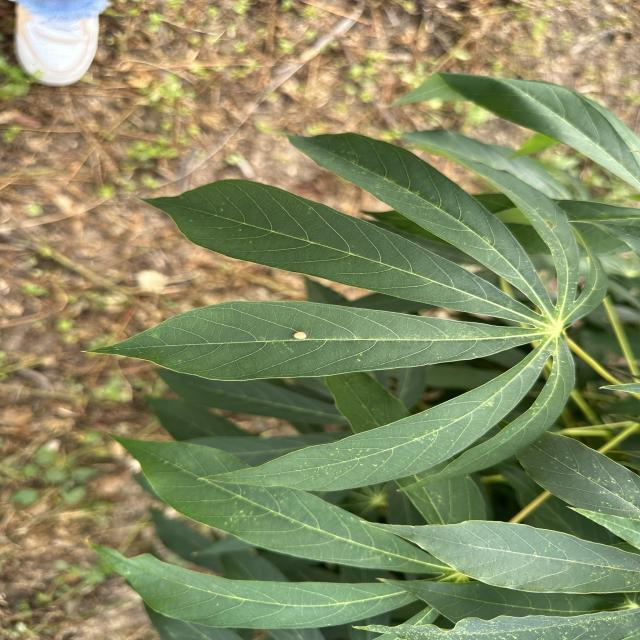Mosca: (285, 318, 318, 348)
